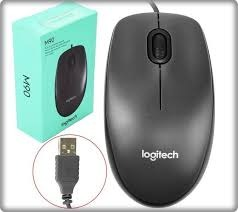mouse: (101, 5, 219, 205)
